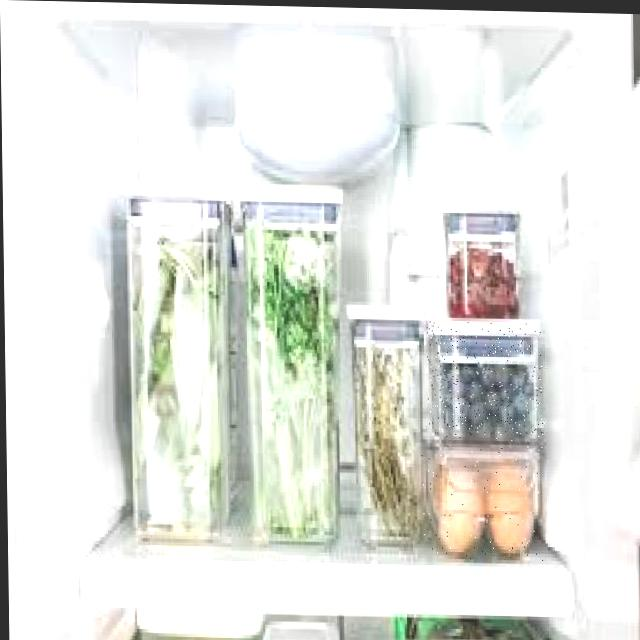blueberries: (427, 321, 543, 437)
eggs: (421, 434, 545, 562)
